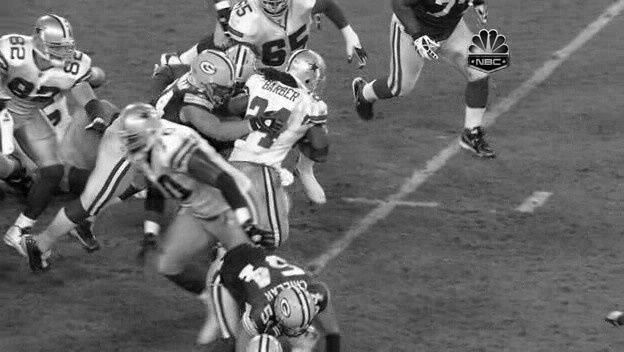person: (291, 50, 326, 95), (290, 50, 325, 95), (292, 50, 327, 95), (291, 49, 326, 94), (291, 51, 326, 96)
target_negative: (129, 94, 594, 123), (249, 285, 454, 307), (114, 264, 227, 278), (212, 128, 226, 153), (561, 175, 570, 190), (413, 244, 421, 248)
